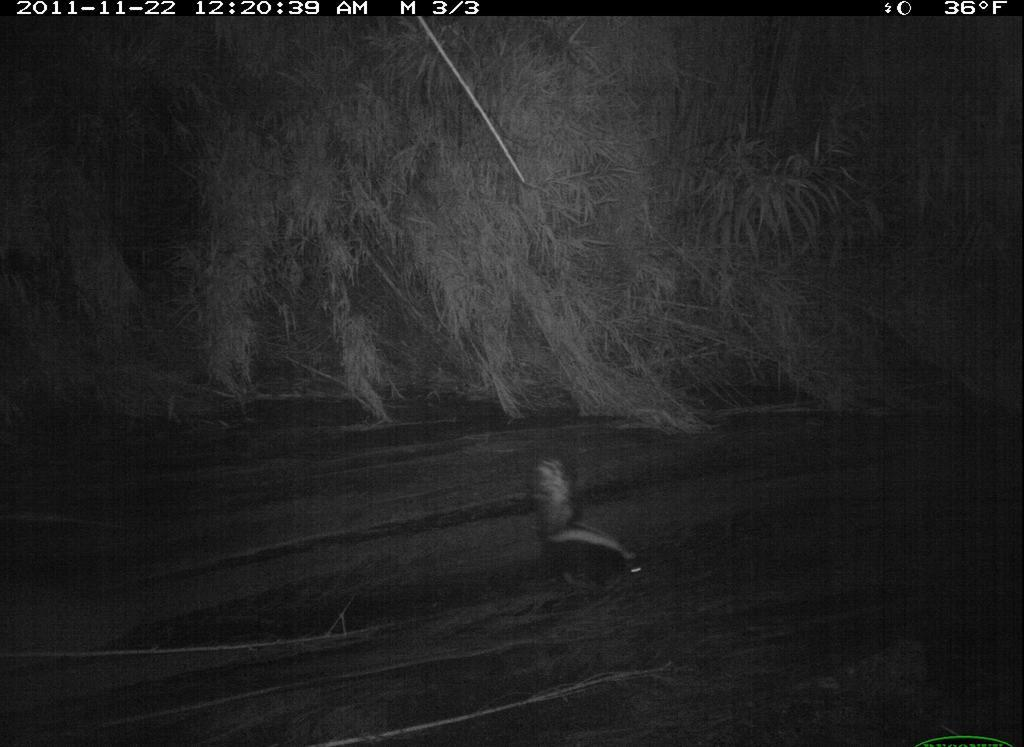skunk: (520, 456, 652, 611)
